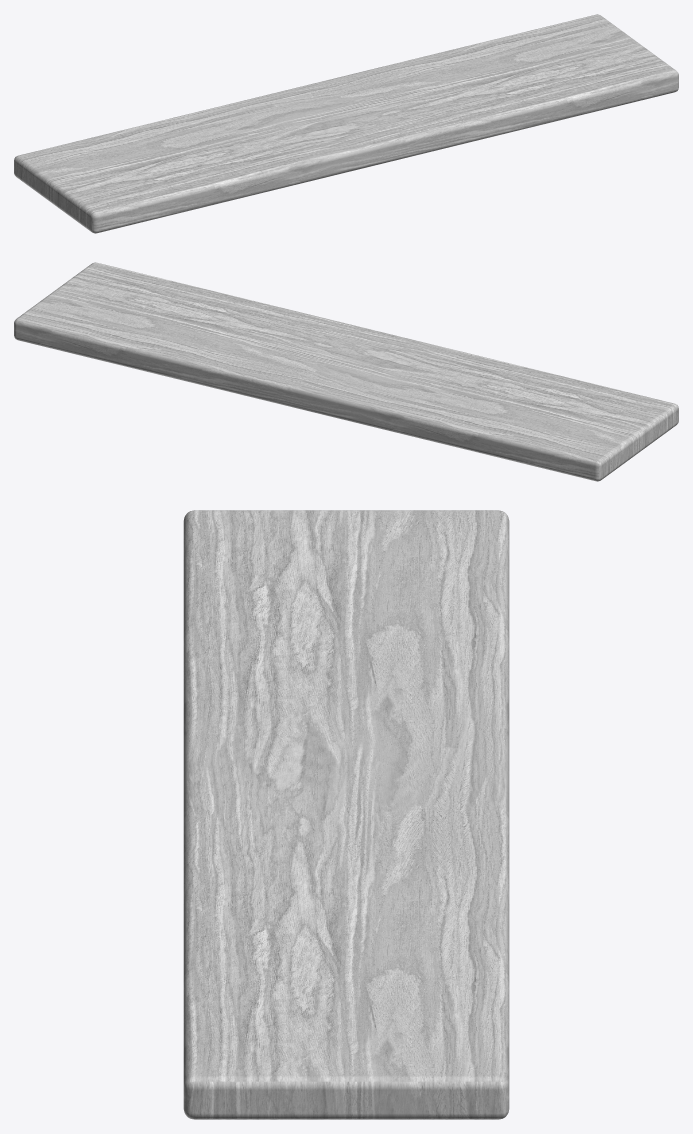
The model's file is wall-shelf.gltf.
The picture shows the model from 3 angles, top to bottom: view 1: azimuth 30°, elevation 25°; view 2: azimuth 150°, elevation 25°; view 3: azimuth 270°, elevation 25°; orthographic projection. The views are drawn at different scales.
Parts seen in each view (by area): view 1: wall-shelf; view 2: wall-shelf; view 3: wall-shelf.
Boxes of the visible parts, bbox=[...] form: wall-shelf: bbox=[14, 14, 678, 233]; wall-shelf: bbox=[14, 262, 678, 481]; wall-shelf: bbox=[183, 510, 509, 1119].
Bounding box in the file's own units: 1 × 0.035 × 0.24.
Materials: 1 (1 with a texture image).
